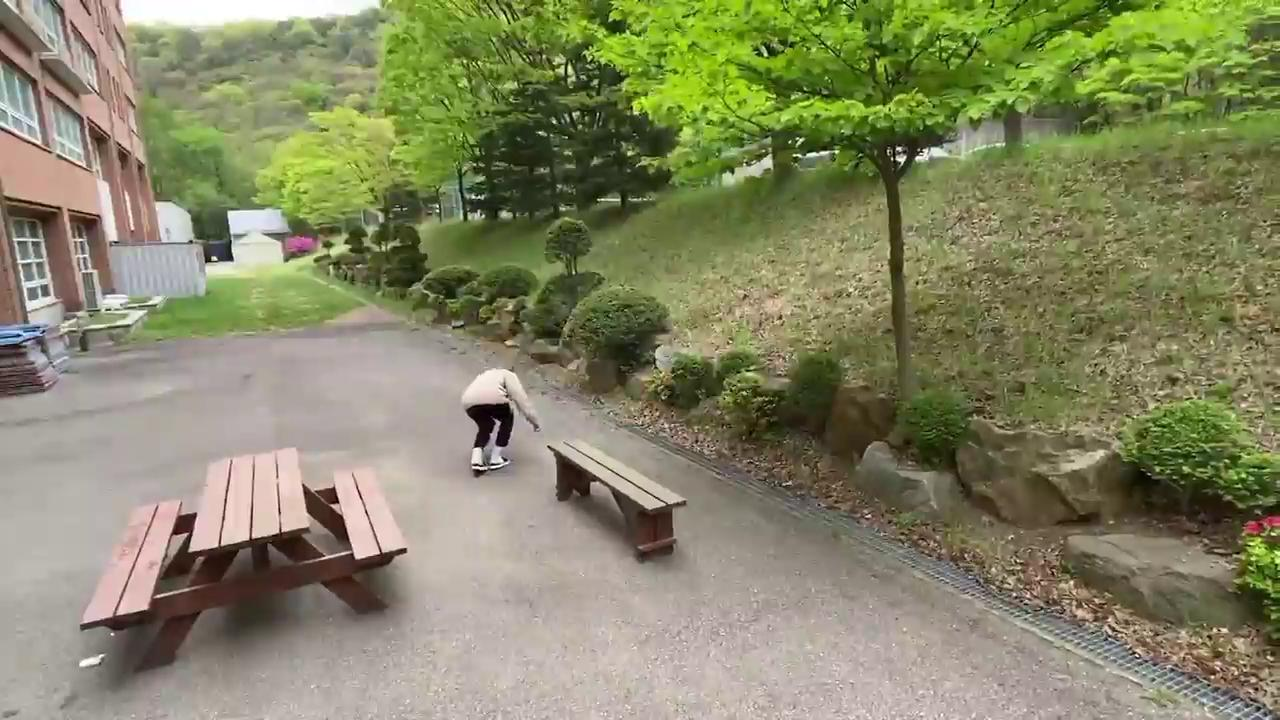fall_down: (459, 366, 543, 480)
